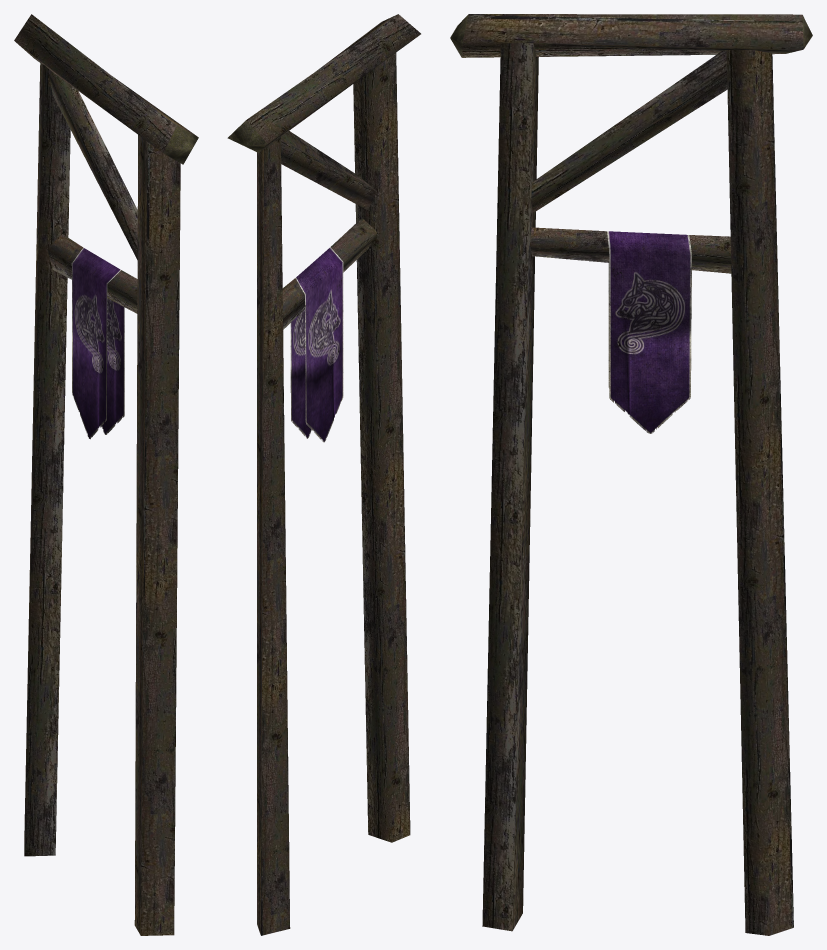
File: KM_WOLF_LOB_BRIDGESTAND.glb
3 renders of one model, left to right at view 1: azimuth 30°, elevation 25°; view 2: azimuth 150°, elevation 25°; view 3: azimuth 270°, elevation 25°, orthographic. The views are drawn at different scales.
Visible parts, largest first — view 1: Mesh; view 2: Mesh; view 3: Mesh.
Boxes of the visible parts, box(x1,y1,x2,y2) form: Mesh: box(14, 14, 198, 935); Mesh: box(227, 14, 420, 935); Mesh: box(450, 14, 812, 935).
Bounding box in the file's own units: 0.8775 × 14.83 × 5.31.
3 materials, 3 textured.
